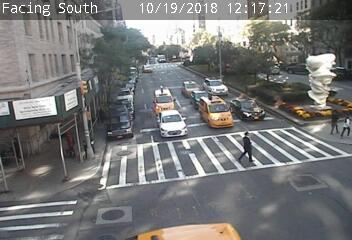carw: (201, 95, 232, 128), (158, 110, 188, 136), (232, 100, 267, 121), (153, 86, 176, 113), (203, 79, 229, 93), (181, 80, 200, 94), (192, 91, 206, 106)
